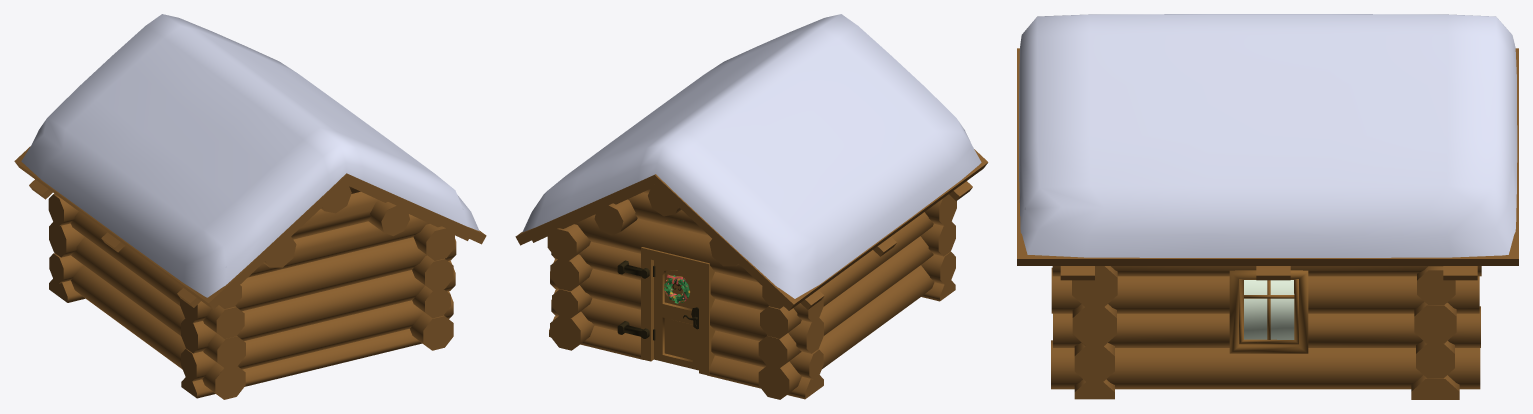
Rendered from house.obj.
3 renders of one model, left to right at view 1: azimuth 30°, elevation 25°; view 2: azimuth 150°, elevation 25°; view 3: azimuth 270°, elevation 25°, orthographic. The views are drawn at different scales.
Visible parts, largest first — view 1: snow_roof_Snow.001, snow_roof_Wood_house.001; view 2: snow_roof_Snow.001, snow_roof_Wood_house.001, snow_roof_Wood_house2.001, snow_roof_Metall.001; view 3: snow_roof_Snow.001, snow_roof_Wood_house.001, snow_roof_Wood_house2.001, snow_roof_Material.001.
Boxes of the visible parts, x1=… form: snow_roof_Snow.001: x1=21, y1=14, x2=479, y2=297; snow_roof_Wood_house.001: x1=14, y1=146, x2=486, y2=399; snow_roof_Snow.001: x1=522, y1=14, x2=981, y2=298; snow_roof_Wood_house.001: x1=515, y1=149, x2=988, y2=399; snow_roof_Wood_house2.001: x1=641, y1=247, x2=715, y2=375; snow_roof_Metall.001: x1=617, y1=260, x2=698, y2=340; snow_roof_Snow.001: x1=1019, y1=14, x2=1517, y2=257; snow_roof_Wood_house.001: x1=1017, y1=48, x2=1518, y2=399; snow_roof_Wood_house2.001: x1=1229, y1=270, x2=1308, y2=353; snow_roof_Material.001: x1=1244, y1=280, x2=1294, y2=339.
Bounding box in the file's own units: 6.02 × 4.84 × 7.21.
